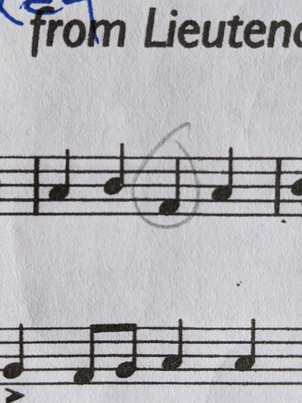note: (203, 142, 238, 220), (229, 317, 263, 392), (98, 140, 130, 218), (155, 153, 187, 220), (158, 315, 186, 391), (3, 317, 30, 390), (46, 146, 74, 214)
